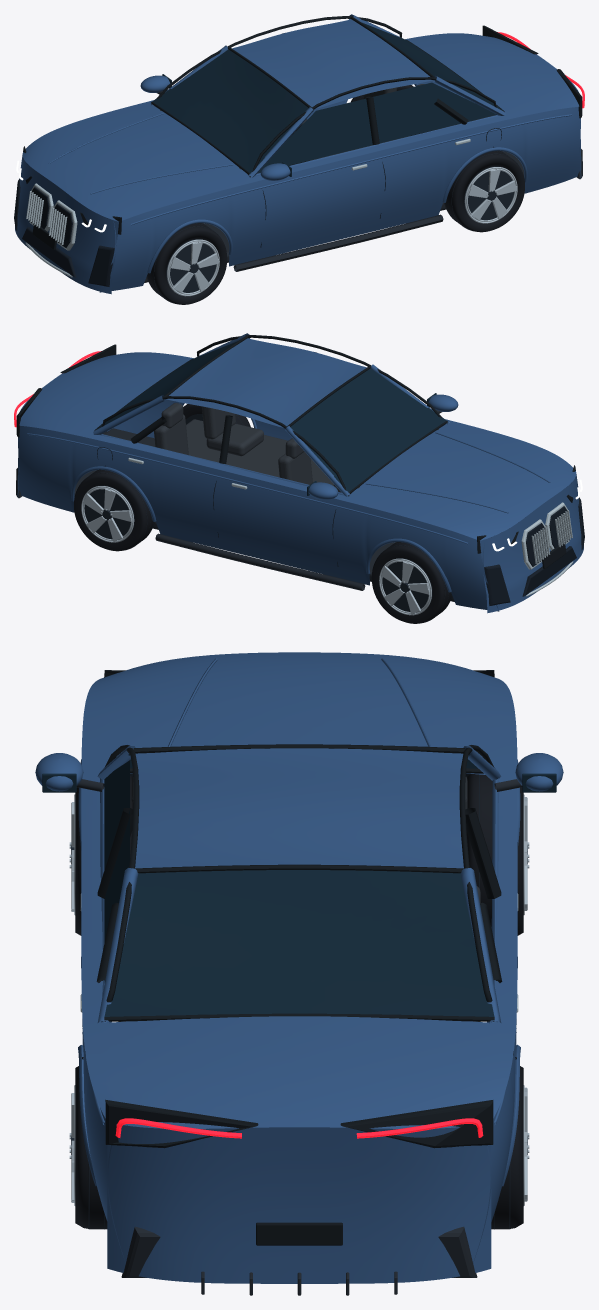
The model's file is bmw_i5_edrive40_2026_authored.glb.
The picture shows the model from 3 angles, top to bottom: view 1: azimuth 30°, elevation 25°; view 2: azimuth 150°, elevation 25°; view 3: azimuth 270°, elevation 25°; orthographic projection. The views are drawn at different scales.
Visible parts, largest first — view 1: paint, glass, roof, wheel_tire, glassTrim, wheel_rim, grille, wheel_dark, trim, chrome; view 2: paint, glass, roof, interior, wheel_tire, glassTrim, wheel_rim, grille, wheel_dark, trim, chrome; view 3: paint, glass, roof, glassTrim, wheel_tire, trim, wheel_rim, redLight.
Part boxes in pixels (x1,y1,x2,y2): paint: [15, 14, 581, 294]; glass: [152, 22, 502, 176]; roof: [232, 19, 432, 108]; wheel_tire: [146, 85, 524, 304]; glassTrim: [23, 16, 582, 249]; wheel_rim: [167, 167, 517, 296]; grille: [14, 128, 501, 286]; wheel_dark: [147, 85, 519, 303]; trim: [97, 91, 582, 282]; chrome: [25, 138, 470, 277]; paint: [17, 333, 583, 613]; glass: [96, 341, 446, 495]; roof: [166, 338, 366, 427]; interior: [154, 403, 438, 493]; wheel_tire: [74, 404, 452, 623]; glassTrim: [16, 335, 575, 568]; wheel_rim: [81, 486, 431, 615]; grille: [97, 447, 584, 605]; wheel_dark: [79, 404, 451, 622]; trim: [16, 410, 501, 601]; chrome: [128, 457, 573, 596]; paint: [35, 652, 563, 1283]; glass: [42, 754, 556, 1016]; roof: [135, 748, 463, 868]; glassTrim: [96, 670, 502, 1245]; wheel_tire: [75, 774, 523, 1229]; trim: [76, 779, 522, 1295]; wheel_rim: [69, 794, 529, 1205]; redLight: [115, 1118, 483, 1138].
Size of the model in its own units: 5.13 by 1.57 by 2.3.
